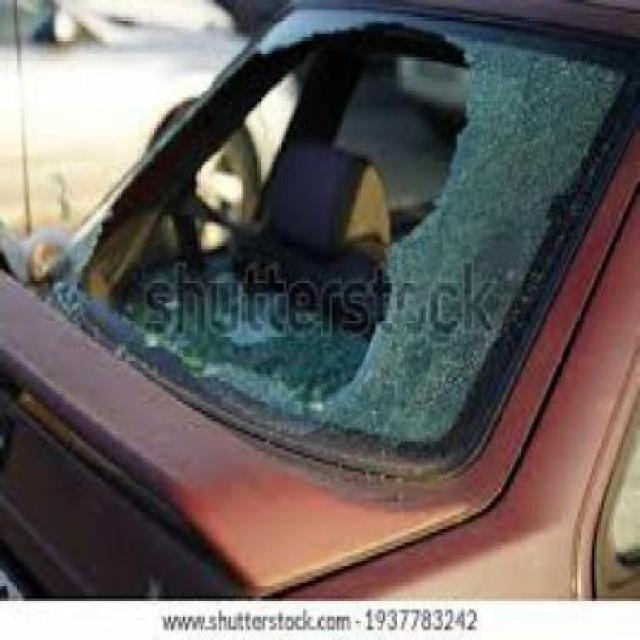Rear-windscreen-Damage: (49, 0, 626, 523)
